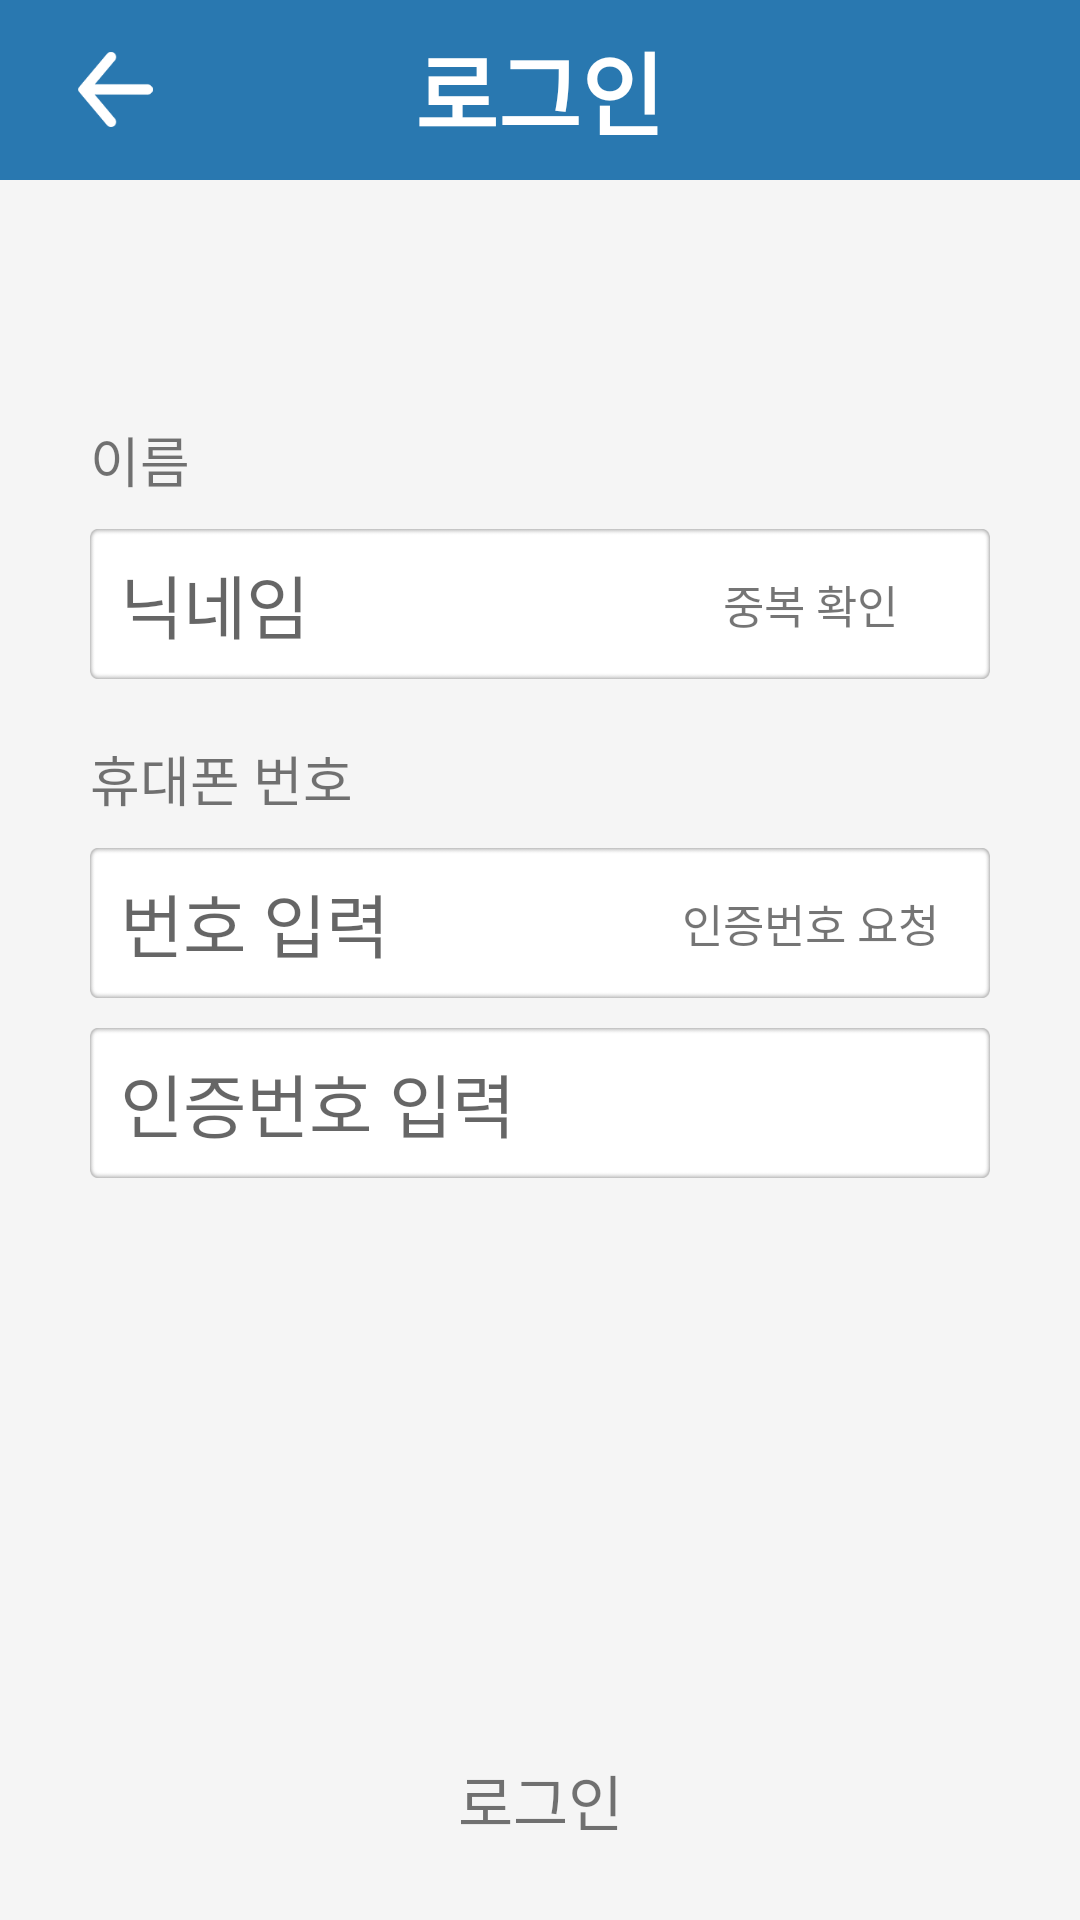

Named icons in this screenshot (1080w x 1920h) and their centers, (x,y):
back: (115,89)
